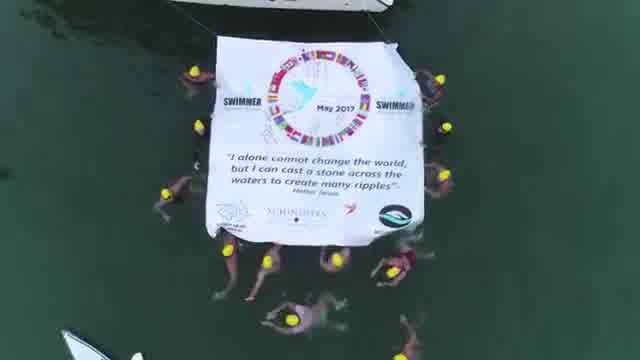human: (378, 228, 438, 293), (268, 299, 346, 340), (248, 238, 284, 305), (153, 172, 196, 220), (212, 226, 237, 300), (421, 158, 453, 200), (397, 312, 425, 358), (416, 66, 446, 108), (173, 62, 213, 91)
